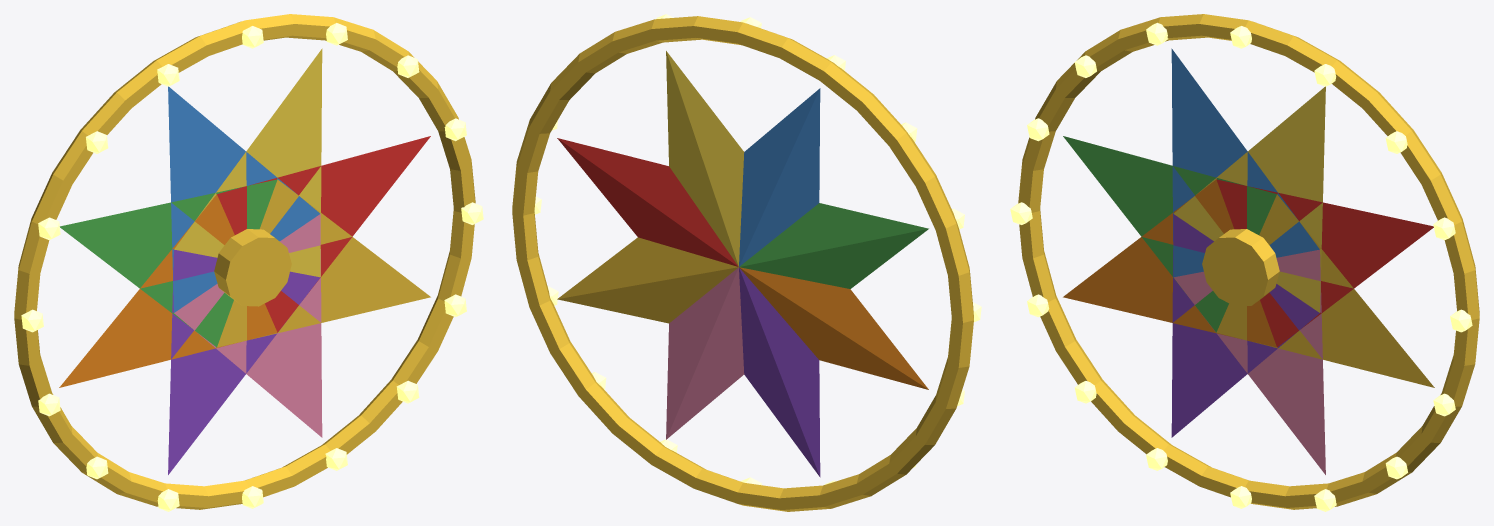
File: wheel_disc.glb
3 renders of one model, left to right at view 1: azimuth 30°, elevation 25°; view 2: azimuth 150°, elevation 25°; view 3: azimuth 330°, elevation 25°, orthographic.
Parts seen in each view (by area): view 1: wheel_disc; view 2: wheel_disc; view 3: wheel_disc.
Boxes of the visible parts, x1,y1,x2,y2 form: wheel_disc: [14, 14, 483, 511]; wheel_disc: [512, 14, 981, 511]; wheel_disc: [1010, 14, 1479, 511].
Size of the model in its own units: 2.52 by 2.52 by 0.182.
